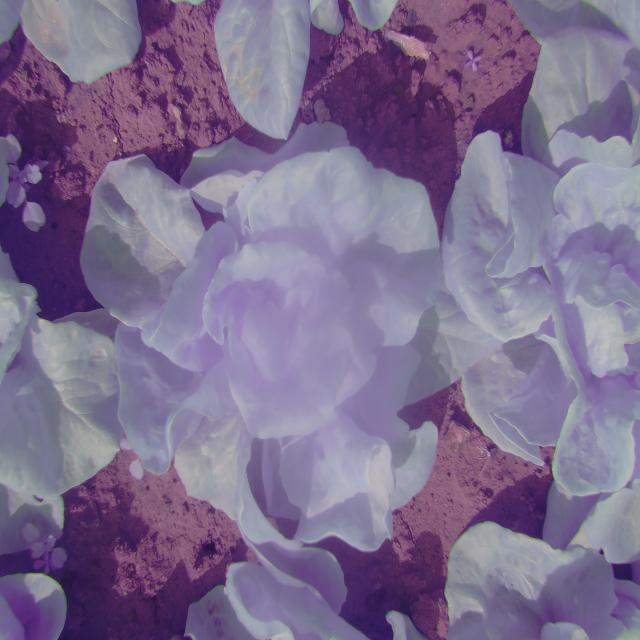vege: (81, 119, 462, 560)
